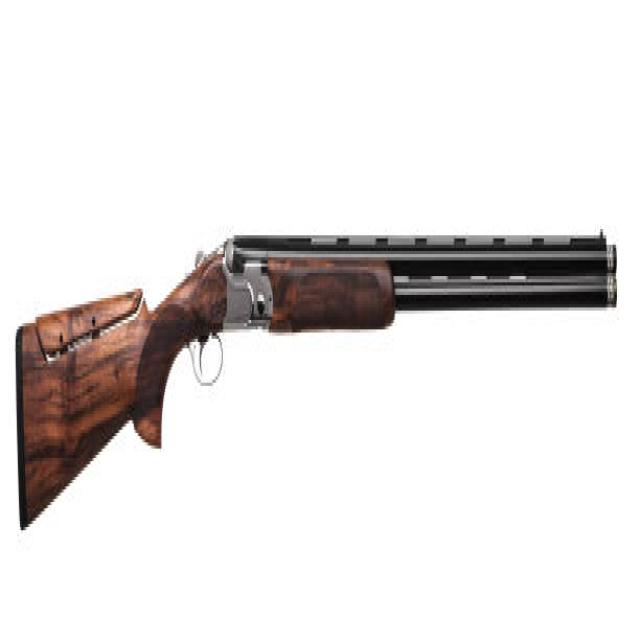rifle: (8, 205, 622, 557)
